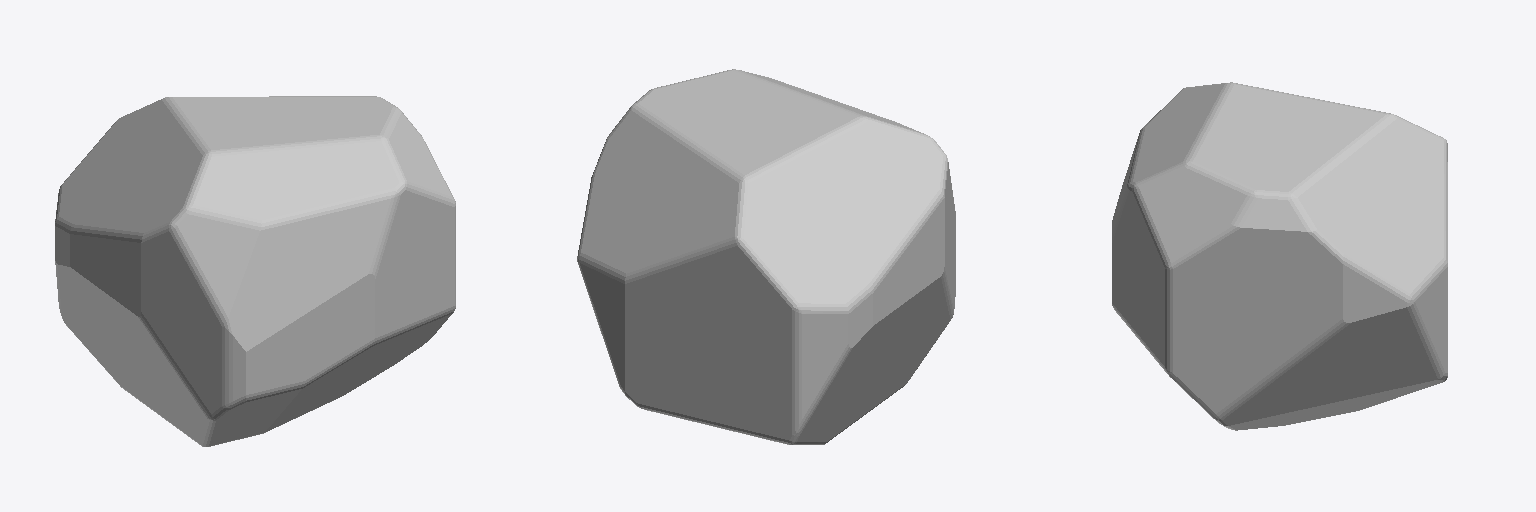
File: Piedra_1.obj
3 renders of one model, left to right at view 1: azimuth 30°, elevation 25°; view 2: azimuth 150°, elevation 25°; view 3: azimuth 270°, elevation 25°, orthographic.
Visible parts, largest first — view 1: Cube.002_Cube.003; view 2: Cube.002_Cube.003; view 3: Cube.002_Cube.003.
Part boxes in pixels (x1,y1,x2,y2): Cube.002_Cube.003: (55, 96, 455, 446); Cube.002_Cube.003: (577, 69, 955, 444); Cube.002_Cube.003: (1112, 82, 1447, 430).
Size of the model in its own units: 15.03 by 13.69 by 15.03.